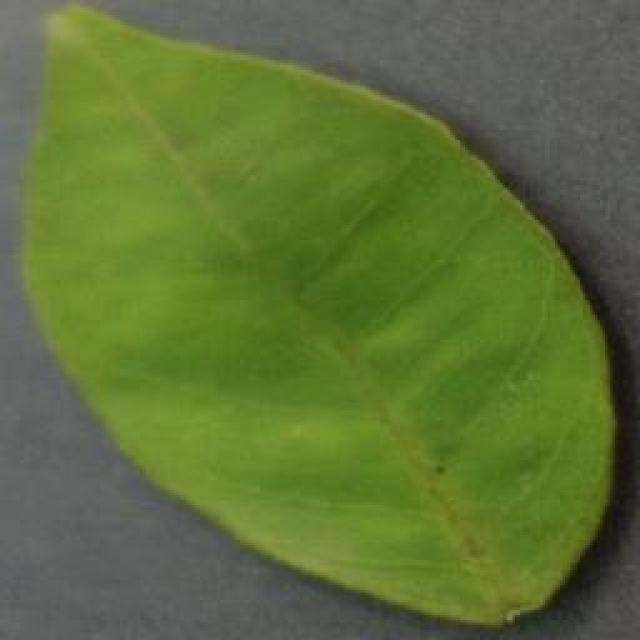Orange_Haunglongbing_Citrus_greening: (66, 85, 559, 516)
